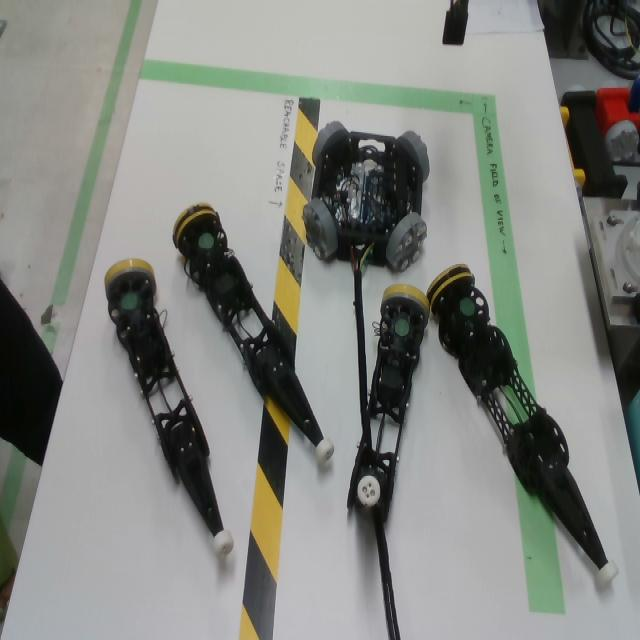body: (312, 132, 422, 265)
body_connector: (385, 212, 427, 273), (302, 199, 338, 260), (398, 131, 430, 183), (312, 121, 348, 165)
leg: (427, 264, 618, 584), (173, 203, 335, 461), (105, 259, 234, 556), (347, 284, 430, 523)
leg_connector: (426, 264, 476, 316), (172, 202, 220, 256), (381, 284, 429, 329), (104, 259, 156, 299)
leg_marker: (121, 293, 139, 311), (460, 297, 475, 317), (198, 232, 214, 249), (394, 319, 409, 336)
